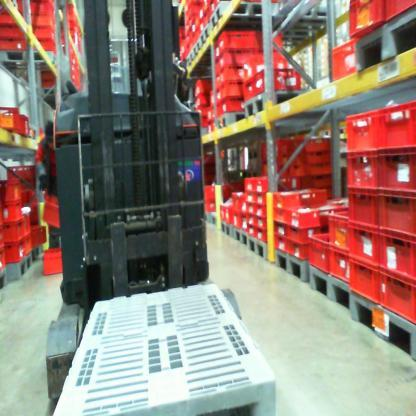pallets: (268, 243, 416, 371), (176, 1, 262, 77), (204, 84, 302, 144), (349, 0, 416, 87), (218, 221, 271, 262), (3, 243, 45, 284), (1, 47, 64, 73)
